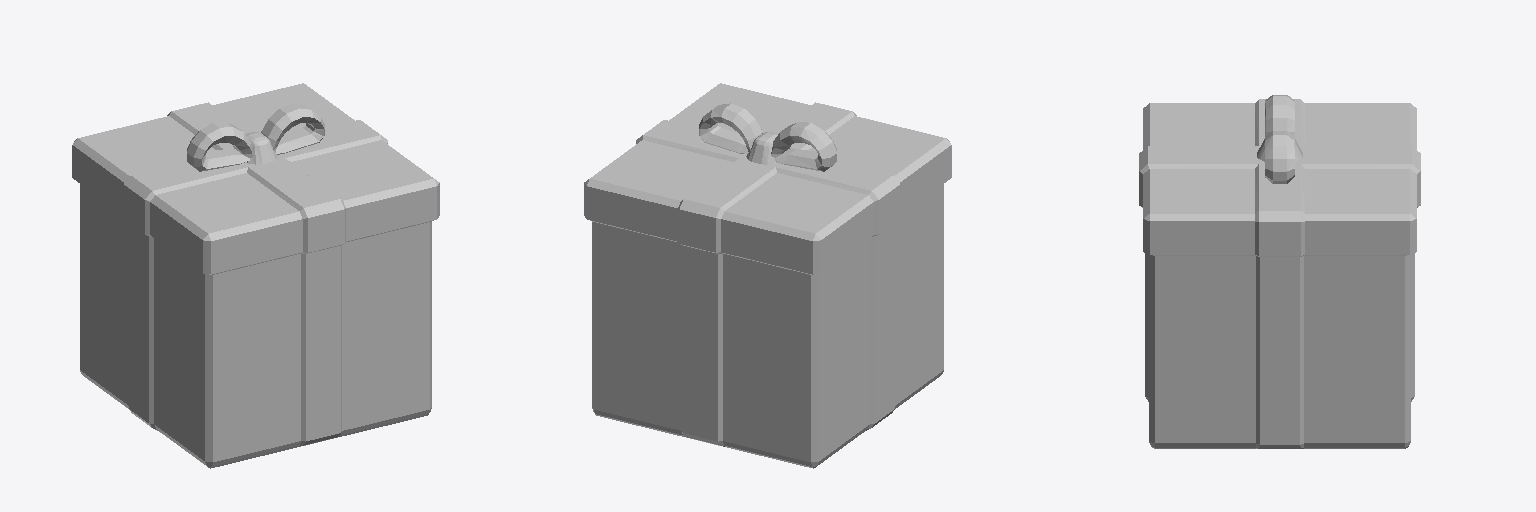
File: present_D_red.obj
3 renders of one model, left to right at view 1: azimuth 30°, elevation 25°; view 2: azimuth 150°, elevation 25°; view 3: azimuth 270°, elevation 25°, orthographic.
Parts seen in each view (by area): view 1: present_D_red; view 2: present_D_red; view 3: present_D_red.
Part boxes in pixels (x1,y1,x2,y2): present_D_red: (72, 83, 439, 468); present_D_red: (584, 83, 951, 468); present_D_red: (1139, 95, 1420, 448).
Bounding box in the file's own units: 0.9638 × 1.06 × 0.9638.